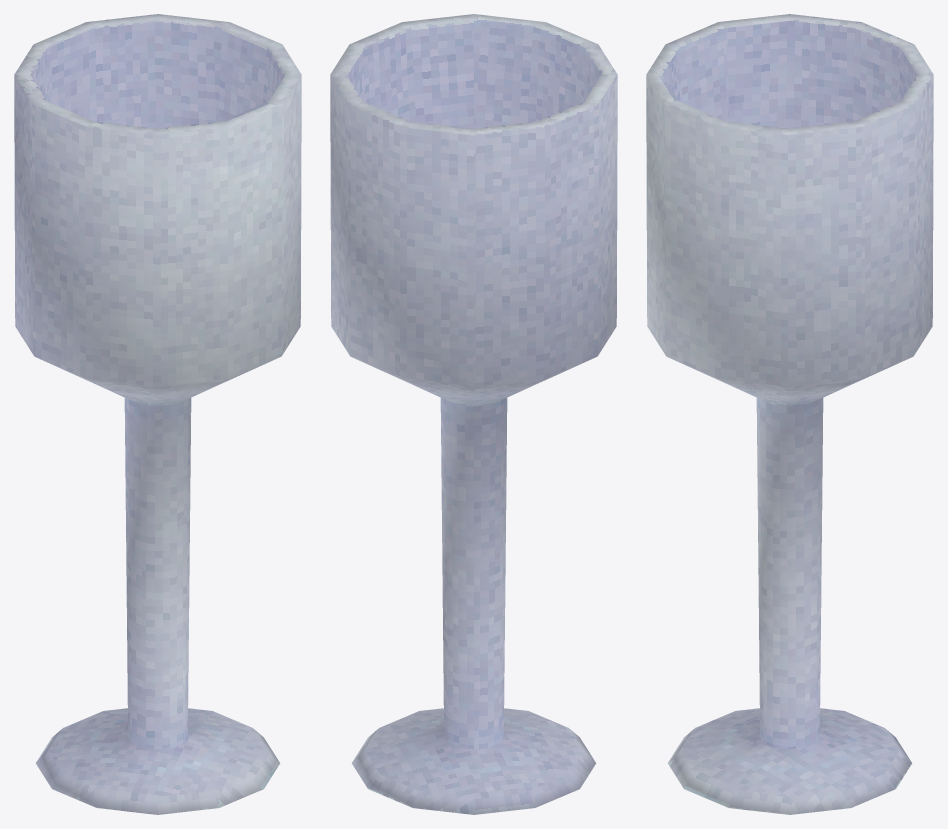
File: Glass_2.gltf
3 views of the same model, side by side, from view 1: azimuth 30°, elevation 25°; view 2: azimuth 150°, elevation 25°; view 3: azimuth 270°, elevation 25° (orthographic).
Parts seen in each view (by area): view 1: Glass_2; view 2: Glass_2; view 3: Glass_2.
Boxes of the visible parts, <box> form: Glass_2: <box>14,14,301,814</box>; Glass_2: <box>330,14,617,814</box>; Glass_2: <box>646,14,933,814</box>.
Size of the model in its own units: 0.6531 by 1.73 by 0.6531.
1 material, 1 textured.
